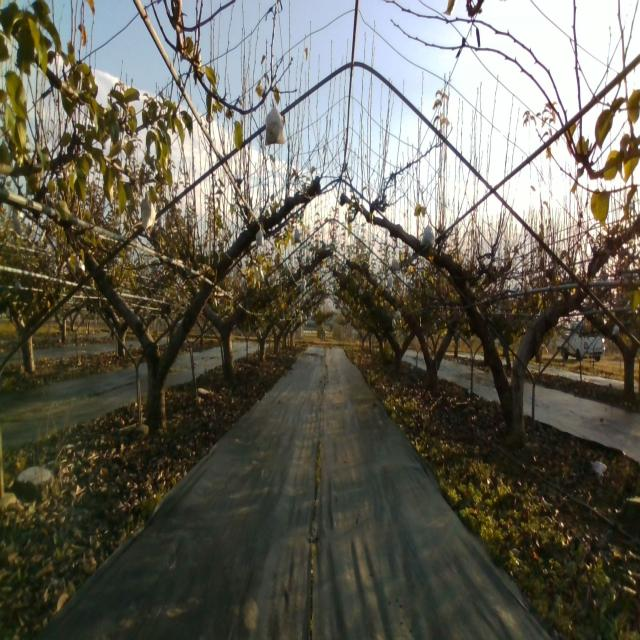pearbags: (264, 100, 286, 144), (141, 198, 157, 230), (420, 224, 436, 247)
